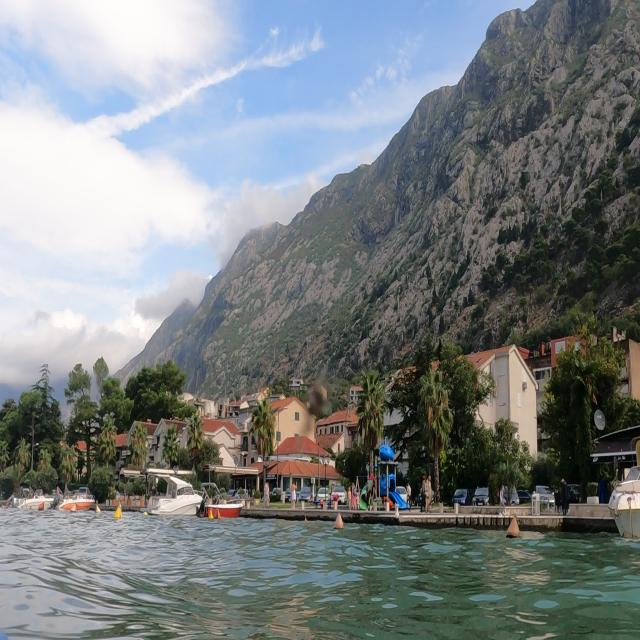boat: (142, 462, 207, 524), (197, 479, 250, 521)
buoy: (499, 509, 528, 548), (330, 509, 348, 539), (110, 498, 128, 523)
